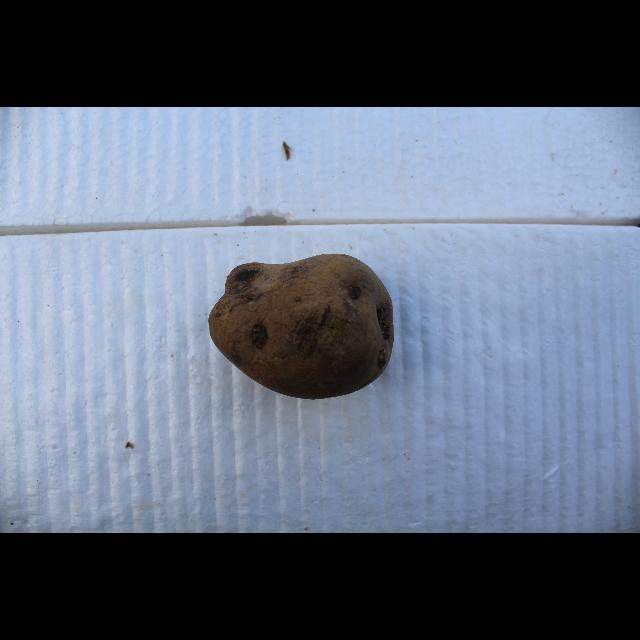Diseased-fungal potato: (206, 249, 398, 403)
